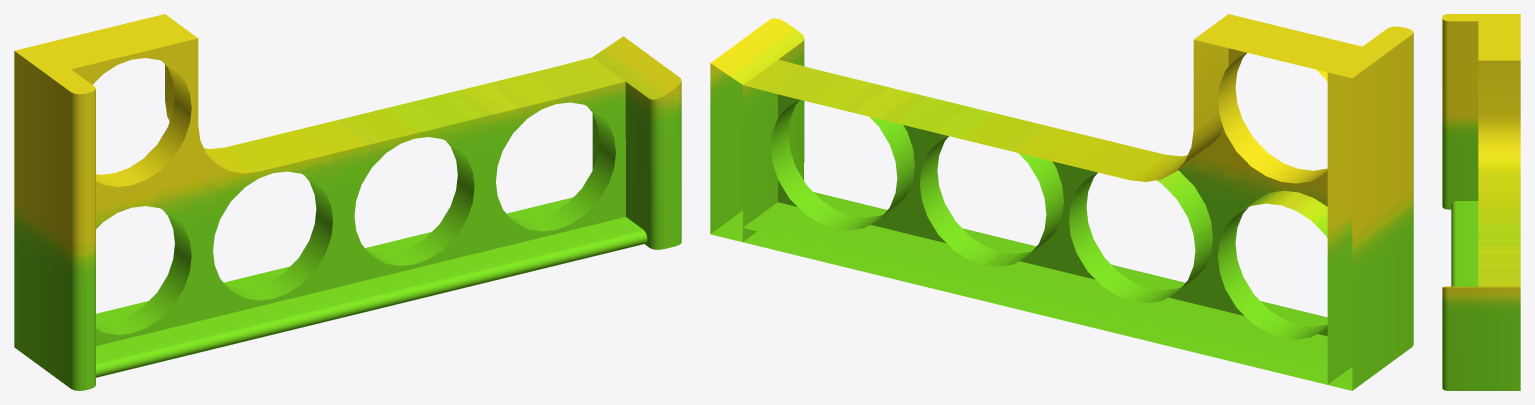
The model's file is Amongus02_Cut_004_0.FBX.
3 views of the same model, side by side, from view 1: azimuth 30°, elevation 25°; view 2: azimuth 150°, elevation 25°; view 3: azimuth 270°, elevation 25° (orthographic). The views are drawn at different scales.
Visible parts, largest first — view 1: Amongus02_Cut_004_0; view 2: Amongus02_Cut_004_0; view 3: Amongus02_Cut_004_0.
Boxes of the visible parts, x1,y1,x2,y2 form: Amongus02_Cut_004_0: [14, 14, 681, 390]; Amongus02_Cut_004_0: [710, 14, 1413, 390]; Amongus02_Cut_004_0: [1442, 14, 1520, 390].
Size of the model in its own units: 3.55 by 0.6244 by 1.65.
